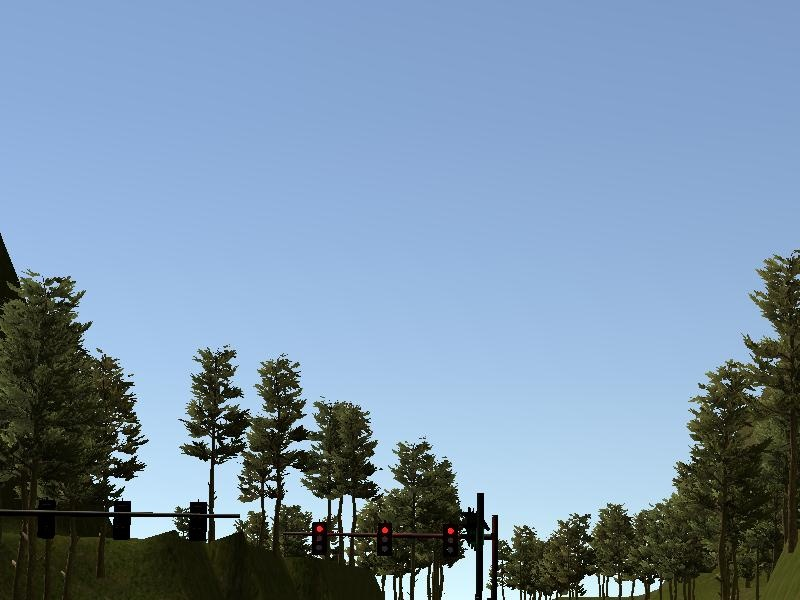Red: (442, 524, 459, 557), (311, 522, 327, 555), (377, 522, 391, 556)
